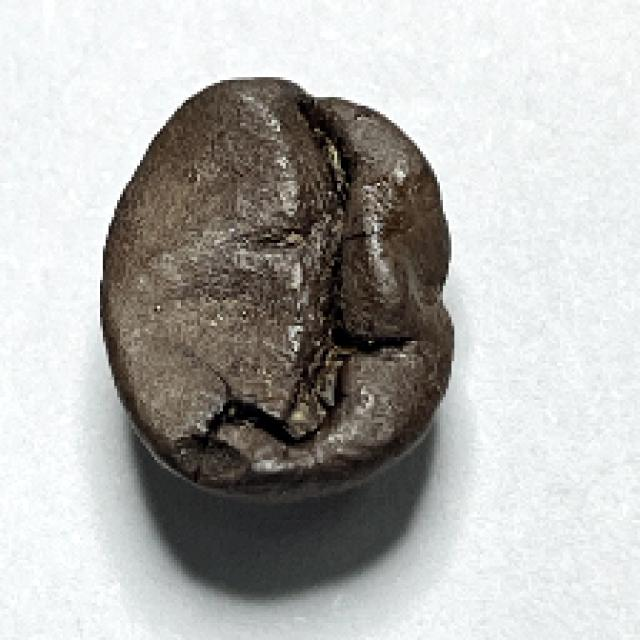bean: (96, 76, 458, 499)
